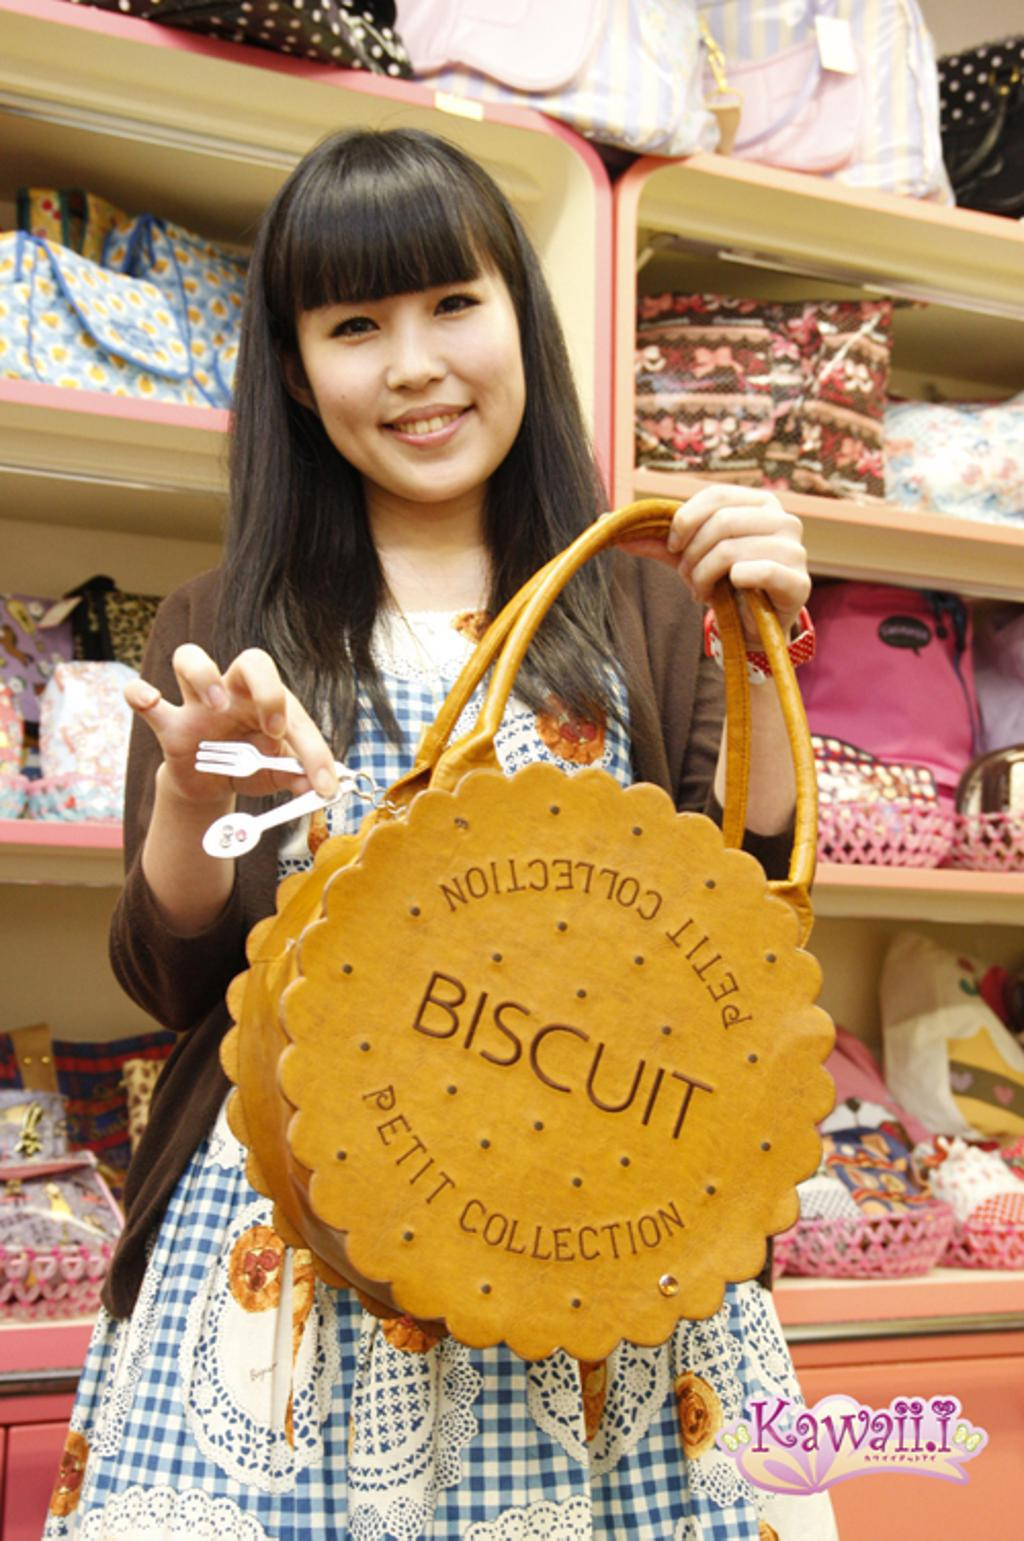face: (302, 209, 519, 501)
